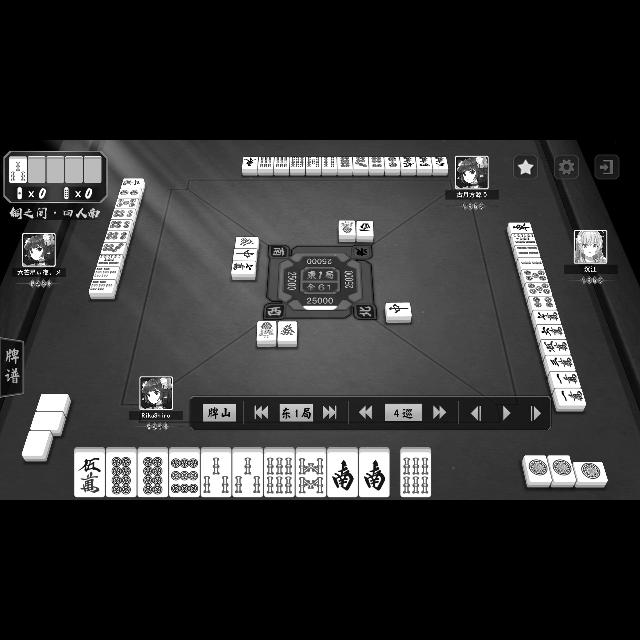1m: (552, 388, 586, 412), (548, 372, 580, 388)
1p: (522, 456, 552, 488), (572, 462, 608, 488), (548, 455, 576, 487)
1s: (257, 321, 277, 347), (338, 220, 356, 242)
2p: (385, 157, 401, 175), (118, 188, 142, 198)
2s: (516, 258, 544, 268)
3m: (542, 356, 576, 370), (432, 157, 448, 176), (122, 178, 144, 188)
3s: (232, 447, 264, 497), (202, 447, 232, 497), (9, 156, 27, 184)
4m: (416, 157, 432, 175)
4p: (527, 296, 557, 310)
4s: (514, 246, 540, 256), (322, 157, 336, 175)
5m: (74, 447, 105, 498), (540, 340, 570, 354), (401, 157, 417, 176)
5p: (524, 282, 552, 296), (520, 270, 548, 282), (114, 198, 140, 208)
5s: (97, 255, 125, 267), (306, 157, 322, 176), (509, 233, 536, 244)
6m: (534, 325, 566, 339)
6p: (369, 157, 385, 176), (111, 209, 137, 219), (108, 220, 134, 230), (104, 232, 130, 242)
6s: (264, 448, 296, 496), (401, 447, 431, 498), (290, 157, 306, 176)
7m: (530, 310, 562, 324), (232, 261, 256, 279)
7p: (100, 242, 128, 254), (353, 157, 369, 176)
7s: (89, 280, 118, 300), (93, 267, 121, 279)
8p: (136, 447, 168, 498), (106, 446, 136, 498), (338, 157, 352, 175)
8s: (296, 448, 328, 497)
9p: (170, 447, 200, 498)
9s: (274, 157, 290, 176), (258, 157, 274, 175)
chun: (384, 302, 412, 322), (233, 249, 257, 261)
haku: (29, 410, 65, 432), (25, 432, 51, 462), (37, 393, 69, 412)
hatsu: (278, 321, 298, 347), (235, 236, 259, 248)
nan: (328, 447, 358, 497), (360, 447, 390, 497)
sha: (356, 221, 374, 243)
tou: (507, 222, 533, 234), (242, 157, 258, 175)
